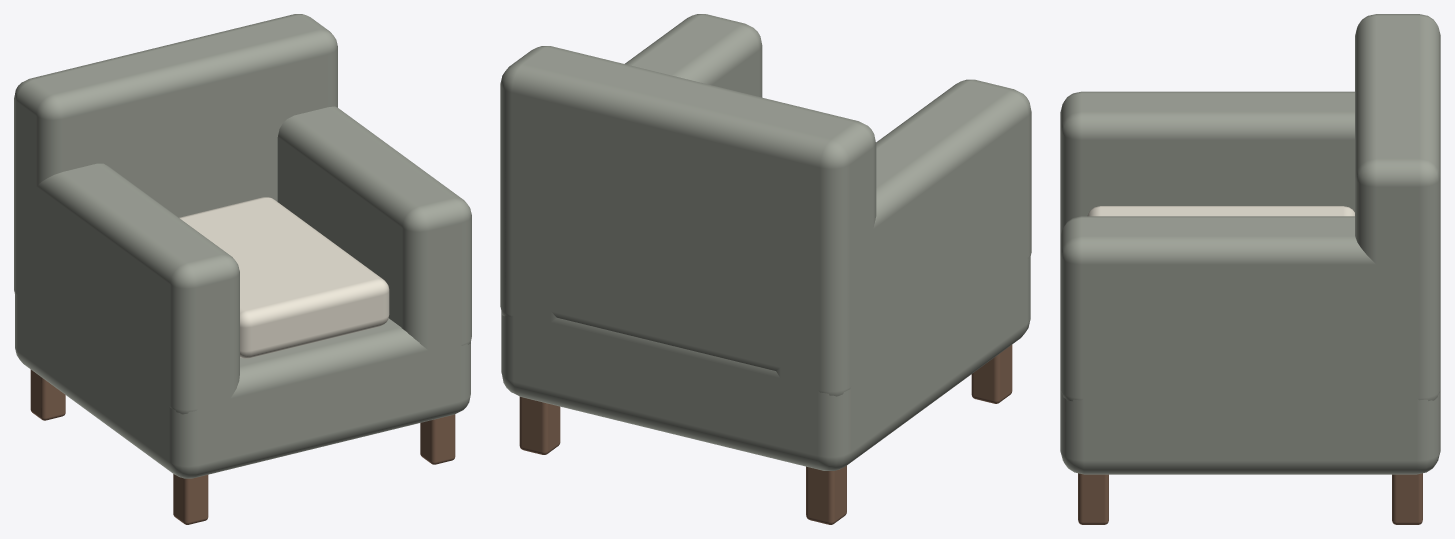
File: paranormal-investigation-house-armchair-07de6cc2__26721.glb
3 renders of one model, left to right at view 1: azimuth 30°, elevation 25°; view 2: azimuth 150°, elevation 25°; view 3: azimuth 270°, elevation 25°, orthographic. The views are drawn at different scales.
Visible parts, largest first — view 1: armchair; view 2: armchair; view 3: armchair.
Boxes of the visible parts, box(x1,y1,x2,y2) form: armchair: box(14, 14, 471, 524); armchair: box(500, 14, 1031, 524); armchair: box(1060, 14, 1440, 524).
Size of the model in its own units: 0.8 by 0.85 by 0.8.
